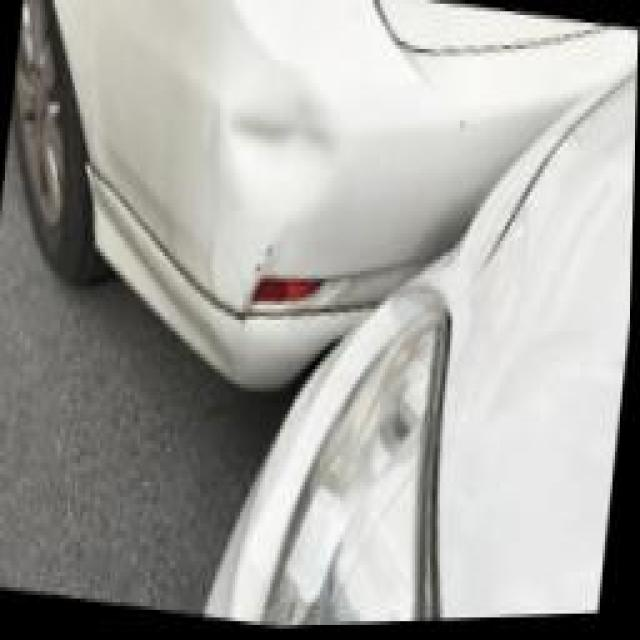Bumper: (178, 56, 364, 334)
